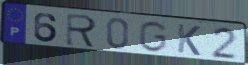0: (105, 17, 130, 51)
2: (210, 26, 239, 60)
6: (32, 12, 59, 43)
G: (137, 20, 170, 54)
K: (176, 22, 203, 57)
R: (64, 12, 99, 49)
